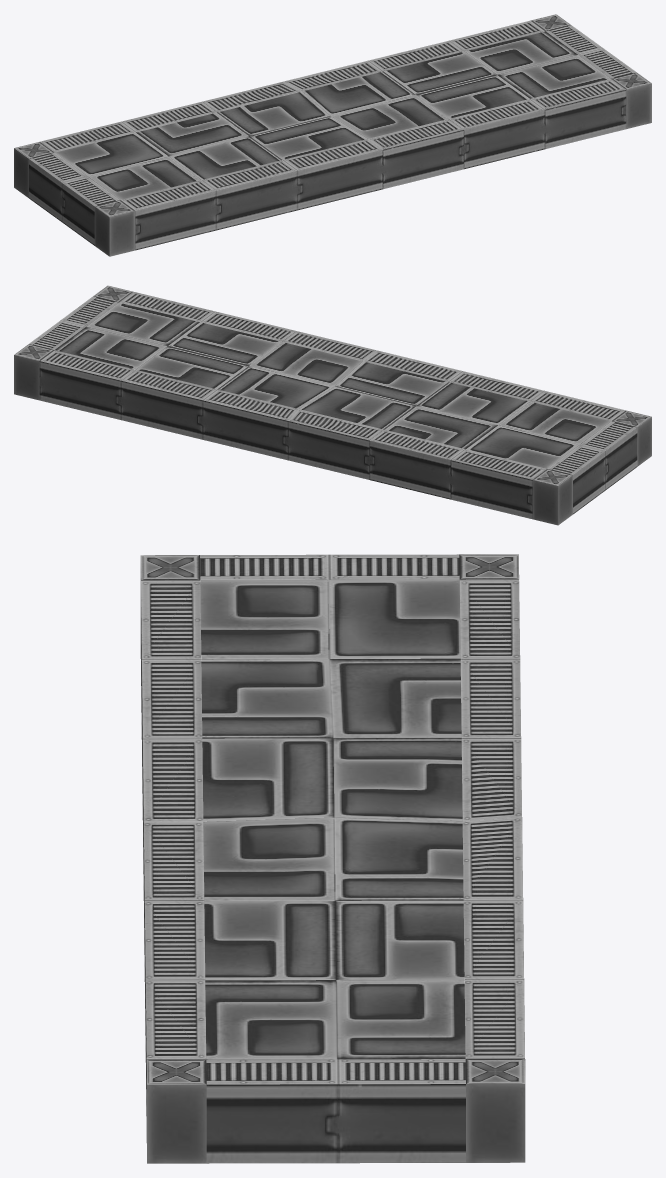
Rendered from ARC1110009.fbx.
3 renders of one model, top to bottom at view 1: azimuth 30°, elevation 25°; view 2: azimuth 150°, elevation 25°; view 3: azimuth 270°, elevation 25°, orthographic. The views are drawn at different scales.
Parts seen in each view (by area): view 1: smARC1110009; view 2: smARC1110009; view 3: smARC1110009.
Part boxes in pixels (box(x1,y1,x2,y2)): smARC1110009: box(14, 14, 651, 256); smARC1110009: box(14, 285, 651, 525); smARC1110009: box(140, 554, 525, 1163).
Bounding box in the file's own units: 529 × 36.7 × 162.
1 material, 1 textured.
